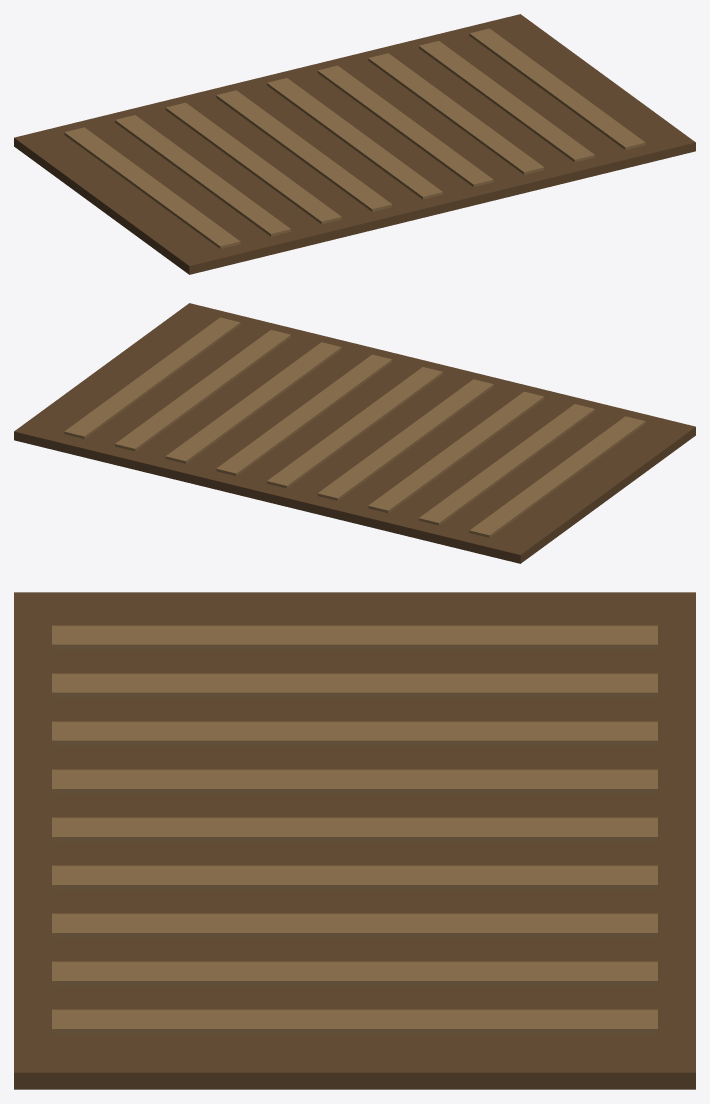
The model's file is Hut_DoorMat.fbx.
3 views of the same model, one above another, from view 1: azimuth 30°, elevation 25°; view 2: azimuth 150°, elevation 25°; view 3: azimuth 270°, elevation 25° (orthographic). The views are drawn at different scales.
Parts seen in each view (by area): view 1: Hut_DoorMat; view 2: Hut_DoorMat; view 3: Hut_DoorMat.
Boxes of the visible parts, x1,y1,x2,y2 form: Hut_DoorMat: (14, 14, 695, 274); Hut_DoorMat: (14, 303, 695, 563); Hut_DoorMat: (14, 592, 695, 1089).
Bounding box in the file's own units: 30 × 0.65 × 18.
